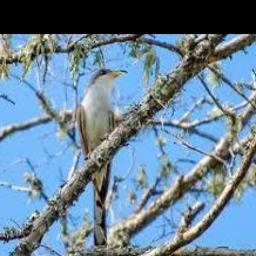Cuckoo: (76, 68, 126, 252)
